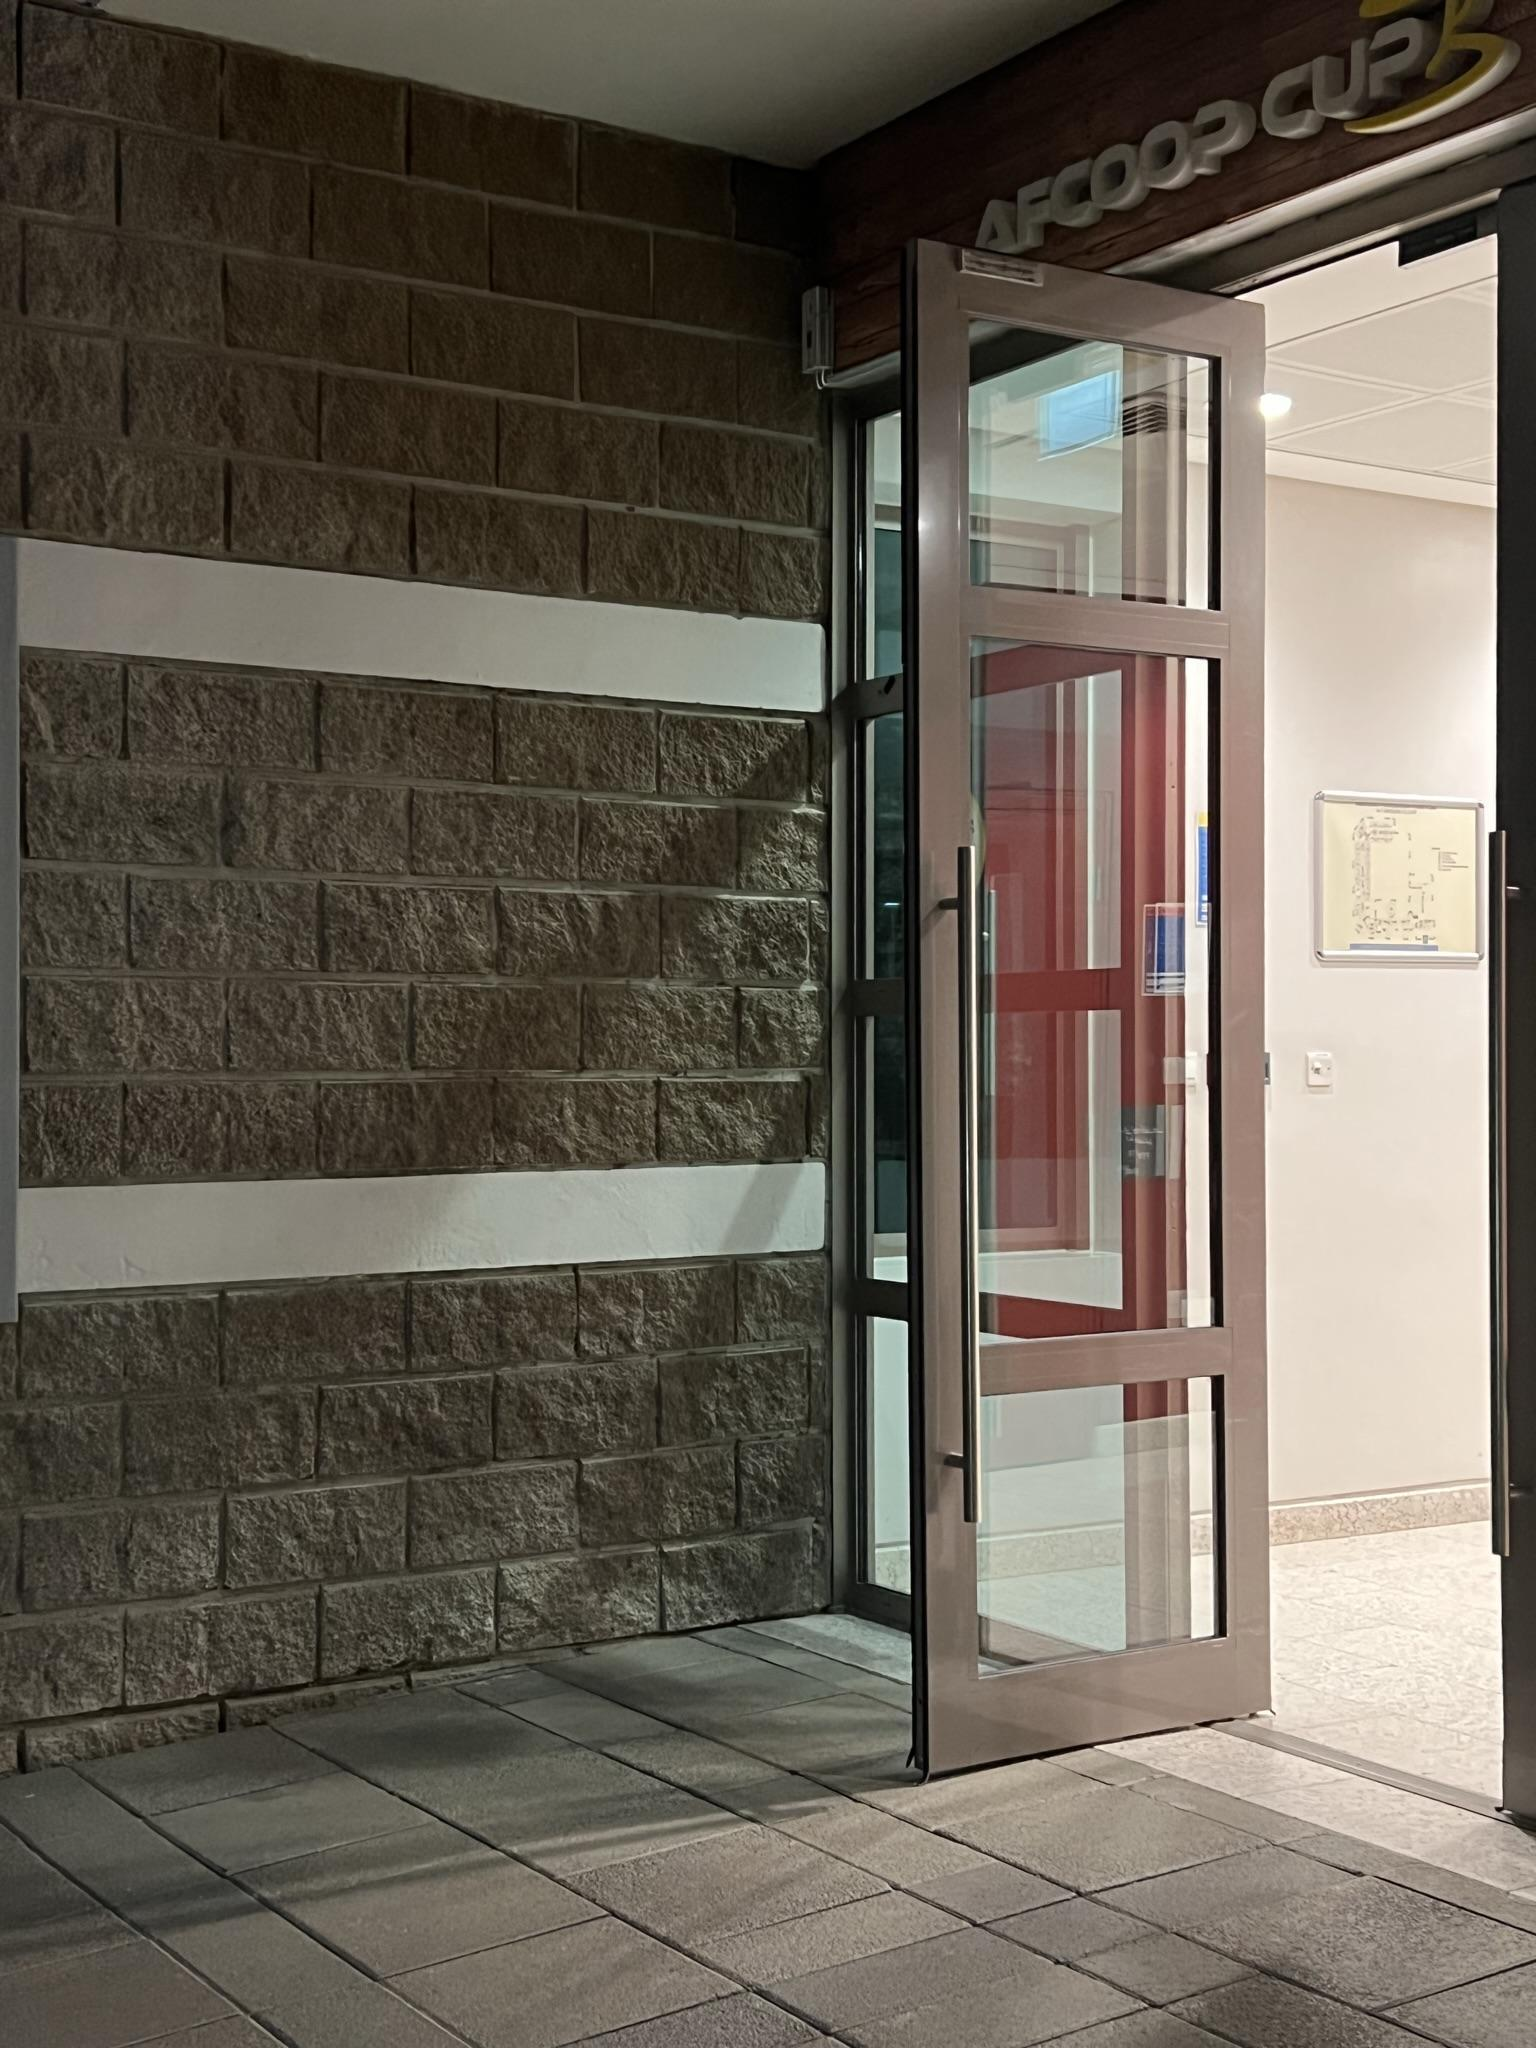door: (916, 240, 1281, 1758)
handle: (957, 843, 984, 1527)
